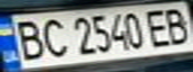0: (124, 9, 148, 51)
2: (69, 12, 93, 56)
4: (109, 10, 130, 52)
5: (90, 11, 115, 54)
B: (6, 17, 48, 62), (160, 4, 193, 46)
C: (36, 15, 69, 60)
E: (142, 7, 175, 47)
